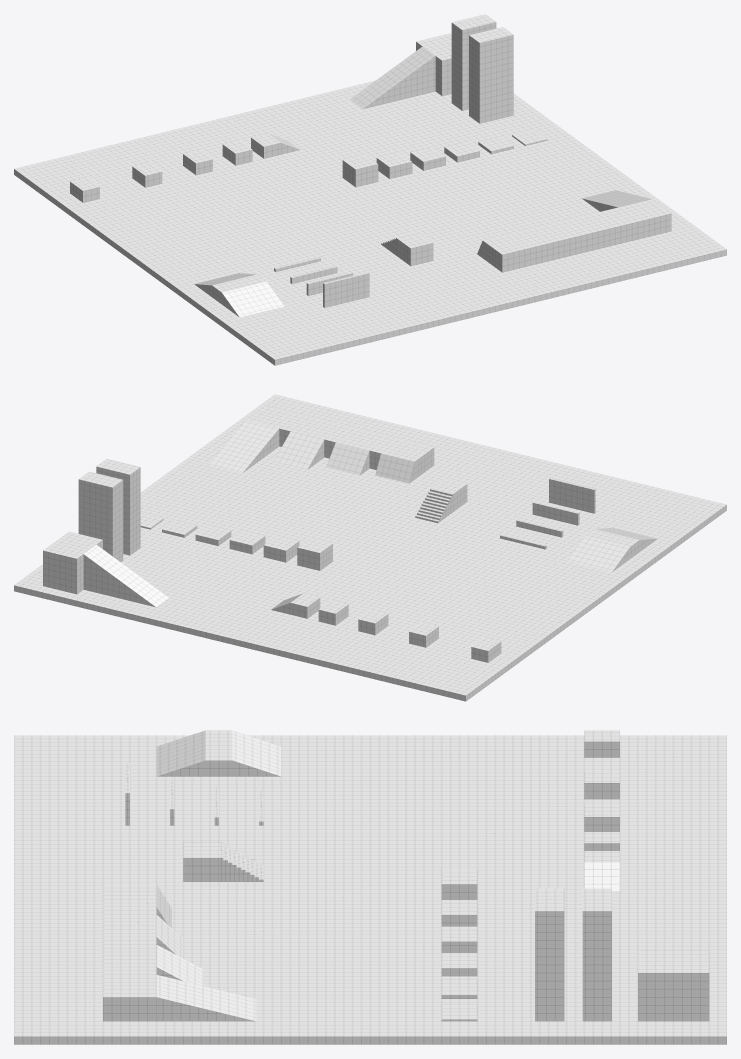
Rendered from TrainingStage.fbx.
3 renders of one model, top to bottom at view 1: azimuth 30°, elevation 25°; view 2: azimuth 150°, elevation 25°; view 3: azimuth 270°, elevation 25°, orthographic. The views are drawn at different scales.
Visible parts, largest first — view 1: Ground, Slope_TopPlatform, Tower_6m__2_, Tower_Ramp, Tower_6m__1_, Hill_Down, Tower_6m, Wall_4_0m, Block_3_00m, Stairs_TopPlatform, Slope_15deg, Block_2_00m (+7 smaller); view 2: Ground, Slope_TopPlatform, Tower_6m__1_, Tower_Ramp, Tower_6m, Slope_15deg, Tower_6m__2_, Hill_Up, Slope_30deg, Wall_4_0m, Slope_45deg, Block_3_00m (+12 smaller); view 3: Ground, Slope_TopPlatform, Tower_6m, Tower_6m__1_, Tower_6m__2_, Slope_15deg, Hill_Up, Hill_Down, Stairs_TopPlatform, Hill_Top, Block_3_00m, Slope_30deg (+11 smaller).
Boxes of the visible parts, x1,y1,x2,y2 form: Ground: (14,80,726,365); Slope_TopPlatform: (482,199,671,272); Tower_6m__2_: (469,27,513,123); Tower_Ramp: (350,46,435,108); Tower_6m__1_: (451,14,496,110); Hill_Down: (221,281,284,317); Tower_6m: (416,33,451,95); Wall_4_0m: (323,272,369,307); Block_3_00m: (342,154,378,187); Stairs_TopPlatform: (397,233,433,265); Slope_15deg: (582,190,651,211); Block_2_00m: (376,152,412,178); Ground: (14,394,726,701); Slope_TopPlatform: (246,406,434,478); Tower_6m__1_: (78,471,123,561); Tower_Ramp: (83,544,168,607); Tower_6m: (43,531,102,594); Slope_15deg: (209,420,279,472); Tower_6m__2_: (96,459,140,555); Hill_Up: (567,536,629,571); Slope_30deg: (274,431,324,469); Wall_4_0m: (549,478,595,513); Slope_45deg: (326,442,369,475); Block_3_00m: (297,538,332,570); Ground: (14,735,726,1044); Slope_TopPlatform: (103,884,156,1021); Tower_6m: (638,950,709,1021); Tower_6m__1_: (582,888,611,1021); Tower_6m__2_: (535,888,564,1021); Slope_15deg: (156,975,256,1021); Hill_Up: (232,730,281,776); Hill_Down: (156,730,205,776); Stairs_TopPlatform: (183,842,218,881); Hill_Top: (205,730,232,776); Block_3_00m: (441,869,477,899); Slope_30deg: (156,945,202,985).
Bounding box in the file's own units: 8000 × 1466 × 8000.
Materials: 1 (1 with a texture image).
